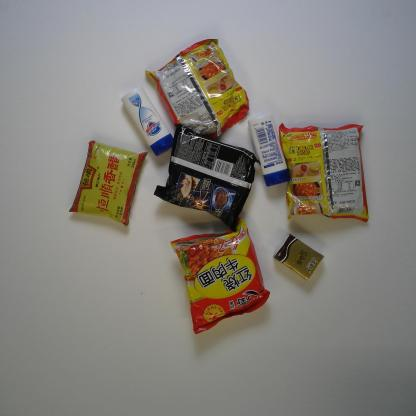Instant Noodles: (171, 216, 271, 336), (153, 123, 261, 233), (144, 38, 250, 139), (278, 122, 370, 223)
Personal Hygiene: (120, 85, 176, 157), (247, 113, 292, 188)
Seasoner: (68, 140, 148, 228)
Tissue: (273, 233, 325, 282)
